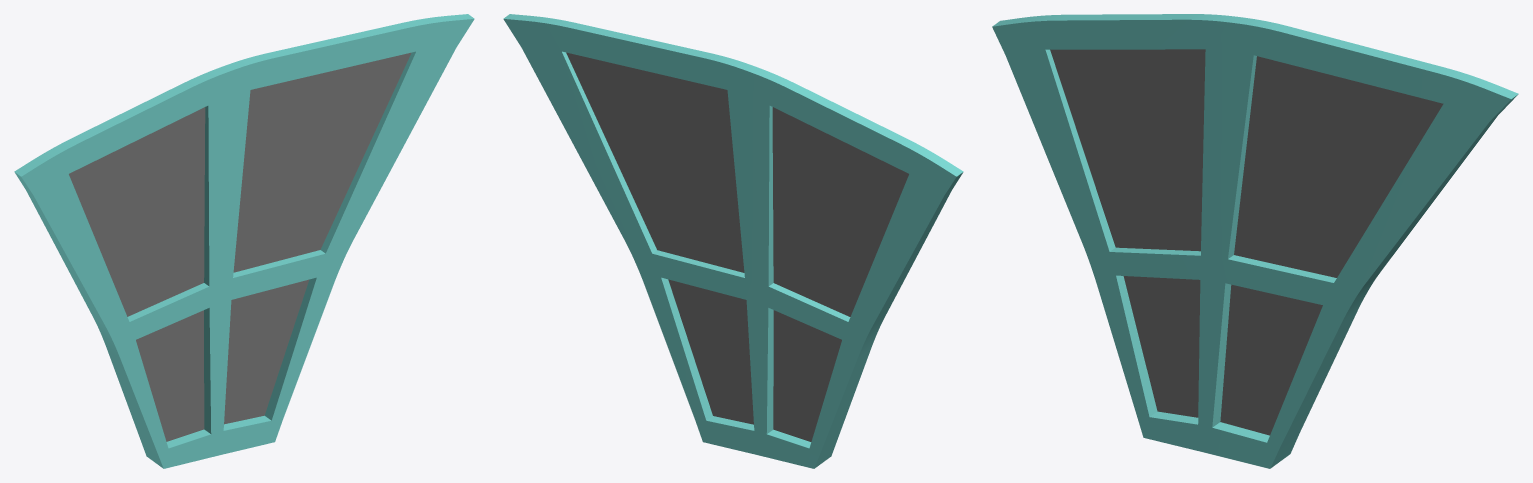
File: door_02.fbx
3 renders of one model, left to right at view 1: azimuth 30°, elevation 25°; view 2: azimuth 150°, elevation 25°; view 3: azimuth 330°, elevation 25°, orthographic. The views are drawn at different scales.
Visible parts, largest first — view 1: Box003; view 2: Box003; view 3: Box003.
Part boxes in pixels (x1,y1,x2,y2): Box003: (14,14,474,468); Box003: (503,14,963,468); Box003: (992,14,1518,468).
Bounding box in the file's own units: 74.85 × 59.72 × 5.08.
